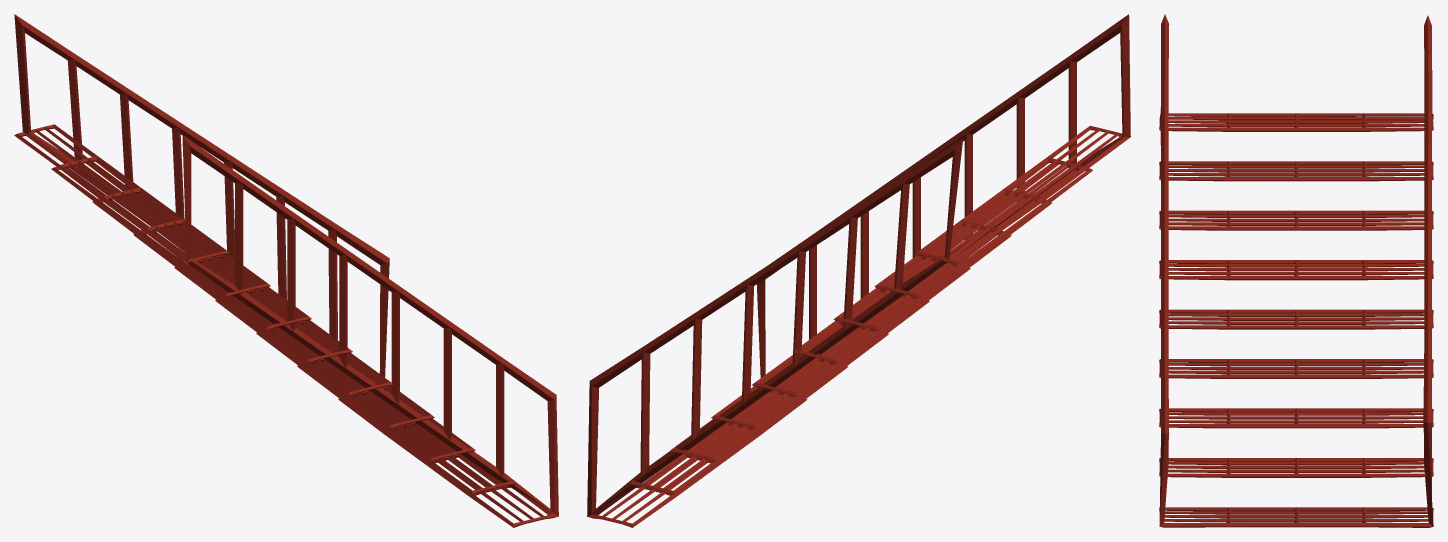
The model's file is Escalera fabrica texturas simples.fbx.
The picture shows the model from 3 angles, left to right: view 1: azimuth 30°, elevation 25°; view 2: azimuth 150°, elevation 25°; view 3: azimuth 270°, elevation 25°; orthographic projection. The views are drawn at different scales.
Parts seen in each view (by area): view 1: Escalera; view 2: Escalera; view 3: Escalera.
Boxes of the visible parts, bbox=[...] form: Escalera: bbox=[14, 14, 558, 527]; Escalera: bbox=[587, 14, 1130, 527]; Escalera: bbox=[1159, 14, 1433, 527].
Bounding box in the file's own units: 211 × 254 × 170.
